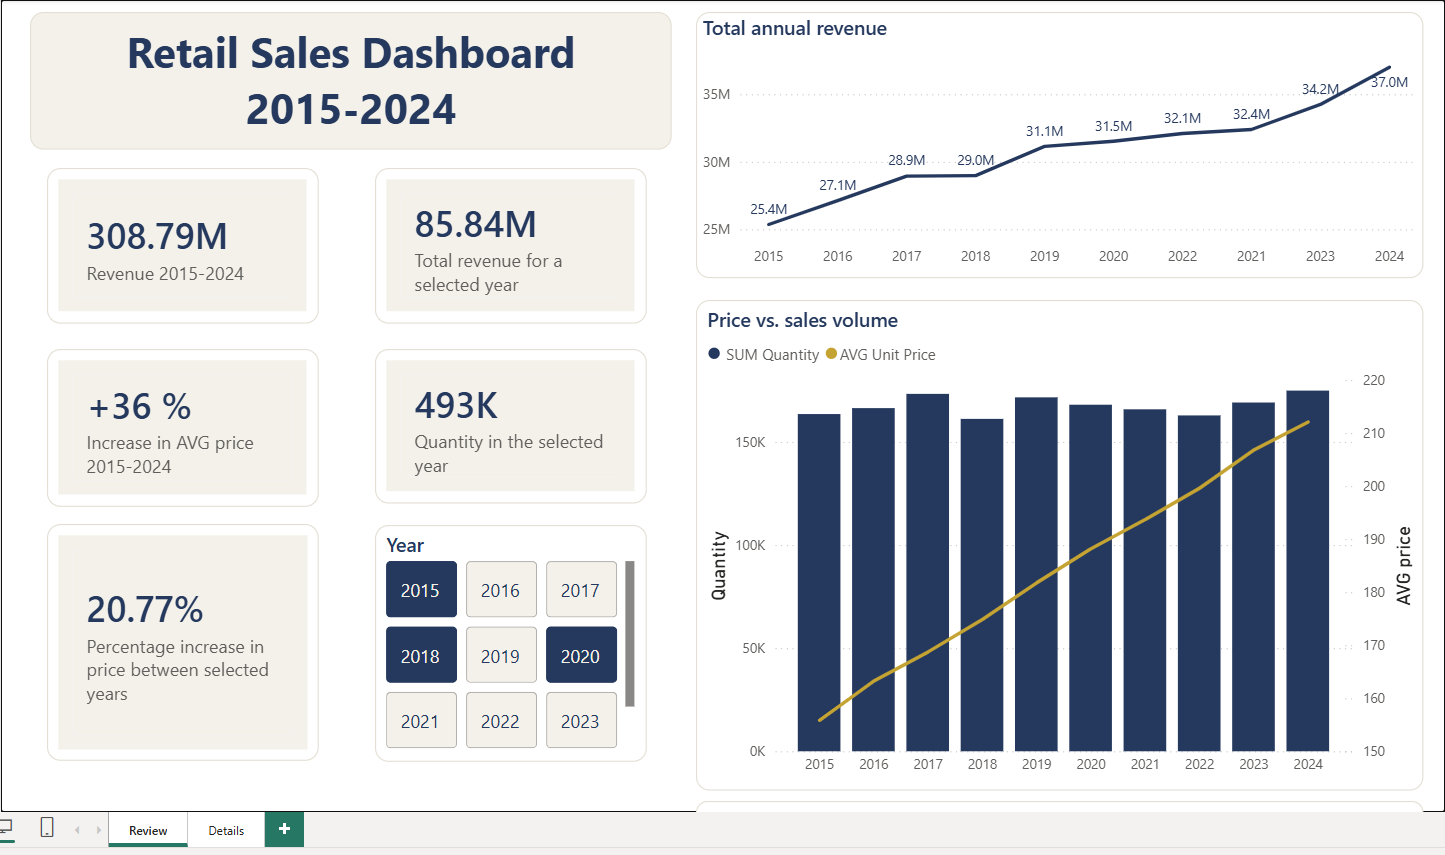

This screenshot's page, from the dashboard's own definition file:
{"tool":"powerbi","page":{"name":"Review","canvas":[1280,720],"ordinal":0},"visuals":[{"type":"lineStackedColumnComboChart","title":"Price vs. sales volume","fields":{"Category":["Q2.Year"],"Y":["Sum(Q2.SUM Quantity)"],"Y2":["Sum(Q2.AVG Unit Price)"]},"box":[616.3,266.3,645.4,434.9],"z":0},{"type":"textbox","box":[616.3,710.2,644.9,10.2],"z":1000},{"type":"lineChart","title":"Total annual revenue","fields":{"Category":["q1.Year"],"Y":["Sum(q1.Year_revenue)"]},"box":[616.3,10.5,645.4,236],"z":2000},{"type":"cardVisual","fields":{"Data":["Sum(q1.Year_revenue)"]},"box":[331.6,149,240.8,137.8],"z":3000},{"type":"cardVisual","fields":{"Data":["Q2.WzrostCenyText"]},"box":[40.8,309.2,240.8,139.8],"z":4000},{"type":"advancedSlicerVisual","fields":{"Values":["q1.Year"]},"box":[331.6,465.3,240.8,210.2],"z":5000},{"type":"cardVisual","fields":{"Data":["Sum(q1.Year_revenue)"]},"box":[40.8,149,240.8,137.8],"z":6000},{"type":"cardVisual","fields":{"Data":["Sum(Q2.SUM Quantity)"]},"box":[331.6,309.2,240.8,136.7],"z":7000},{"type":"textbox","box":[25.5,10.2,569.4,122.4],"z":8000},{"type":"cardVisual","fields":{"Data":["Q2.ProcentowyWzrostCeny"]},"box":[41,465,241,210],"z":9000}]}

Visuals, with their boxes on the page's 1280x720 design canvas (x1, y1, x2, y2). These are canvas units, not pixel positions in the 1445x855 screenshot, which may show the page scaled, cropped or inside an application window:
"Price vs. sales volume" lineStackedColumnComboChart: (616,266,1262,701)
textbox: (616,710,1261,720)
"Total annual revenue" lineChart: (616,10,1262,246)
cardVisual - Sum(q1.Year_revenue): (332,149,572,287)
cardVisual - Q2.WzrostCenyText: (41,309,282,449)
advancedSlicerVisual - q1.Year: (332,465,572,676)
cardVisual - Sum(q1.Year_revenue): (41,149,282,287)
cardVisual - Sum(Q2.SUM Quantity): (332,309,572,446)
textbox: (26,10,595,133)
cardVisual - Q2.ProcentowyWzrostCeny: (41,465,282,675)
